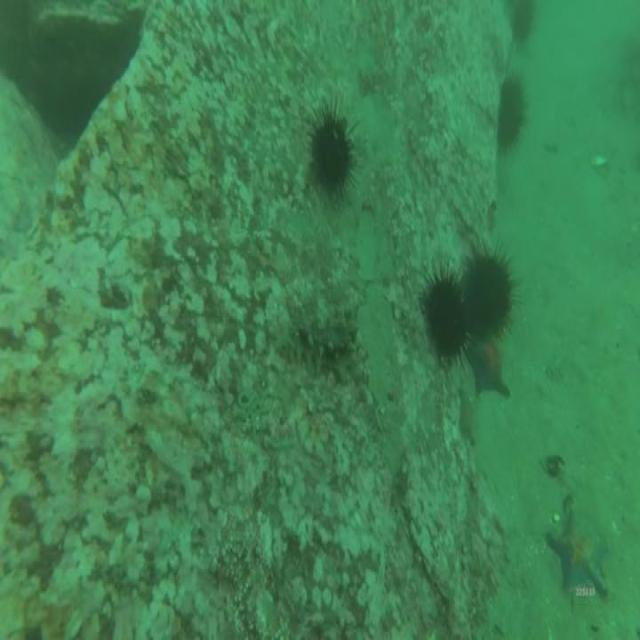echinus: (462, 237, 521, 343), (306, 94, 360, 205), (419, 259, 469, 373), (498, 70, 532, 158), (511, 0, 534, 49)
holothurian: (274, 298, 361, 386)
starfish: (542, 501, 614, 608), (466, 335, 516, 403)
